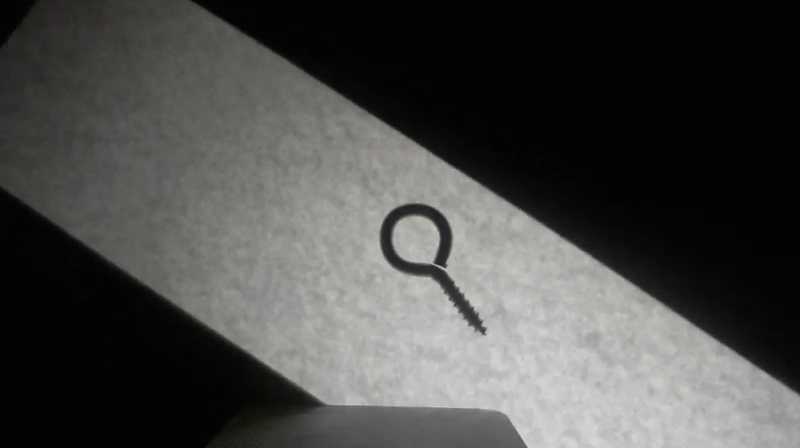O001: (375, 201, 489, 339)
